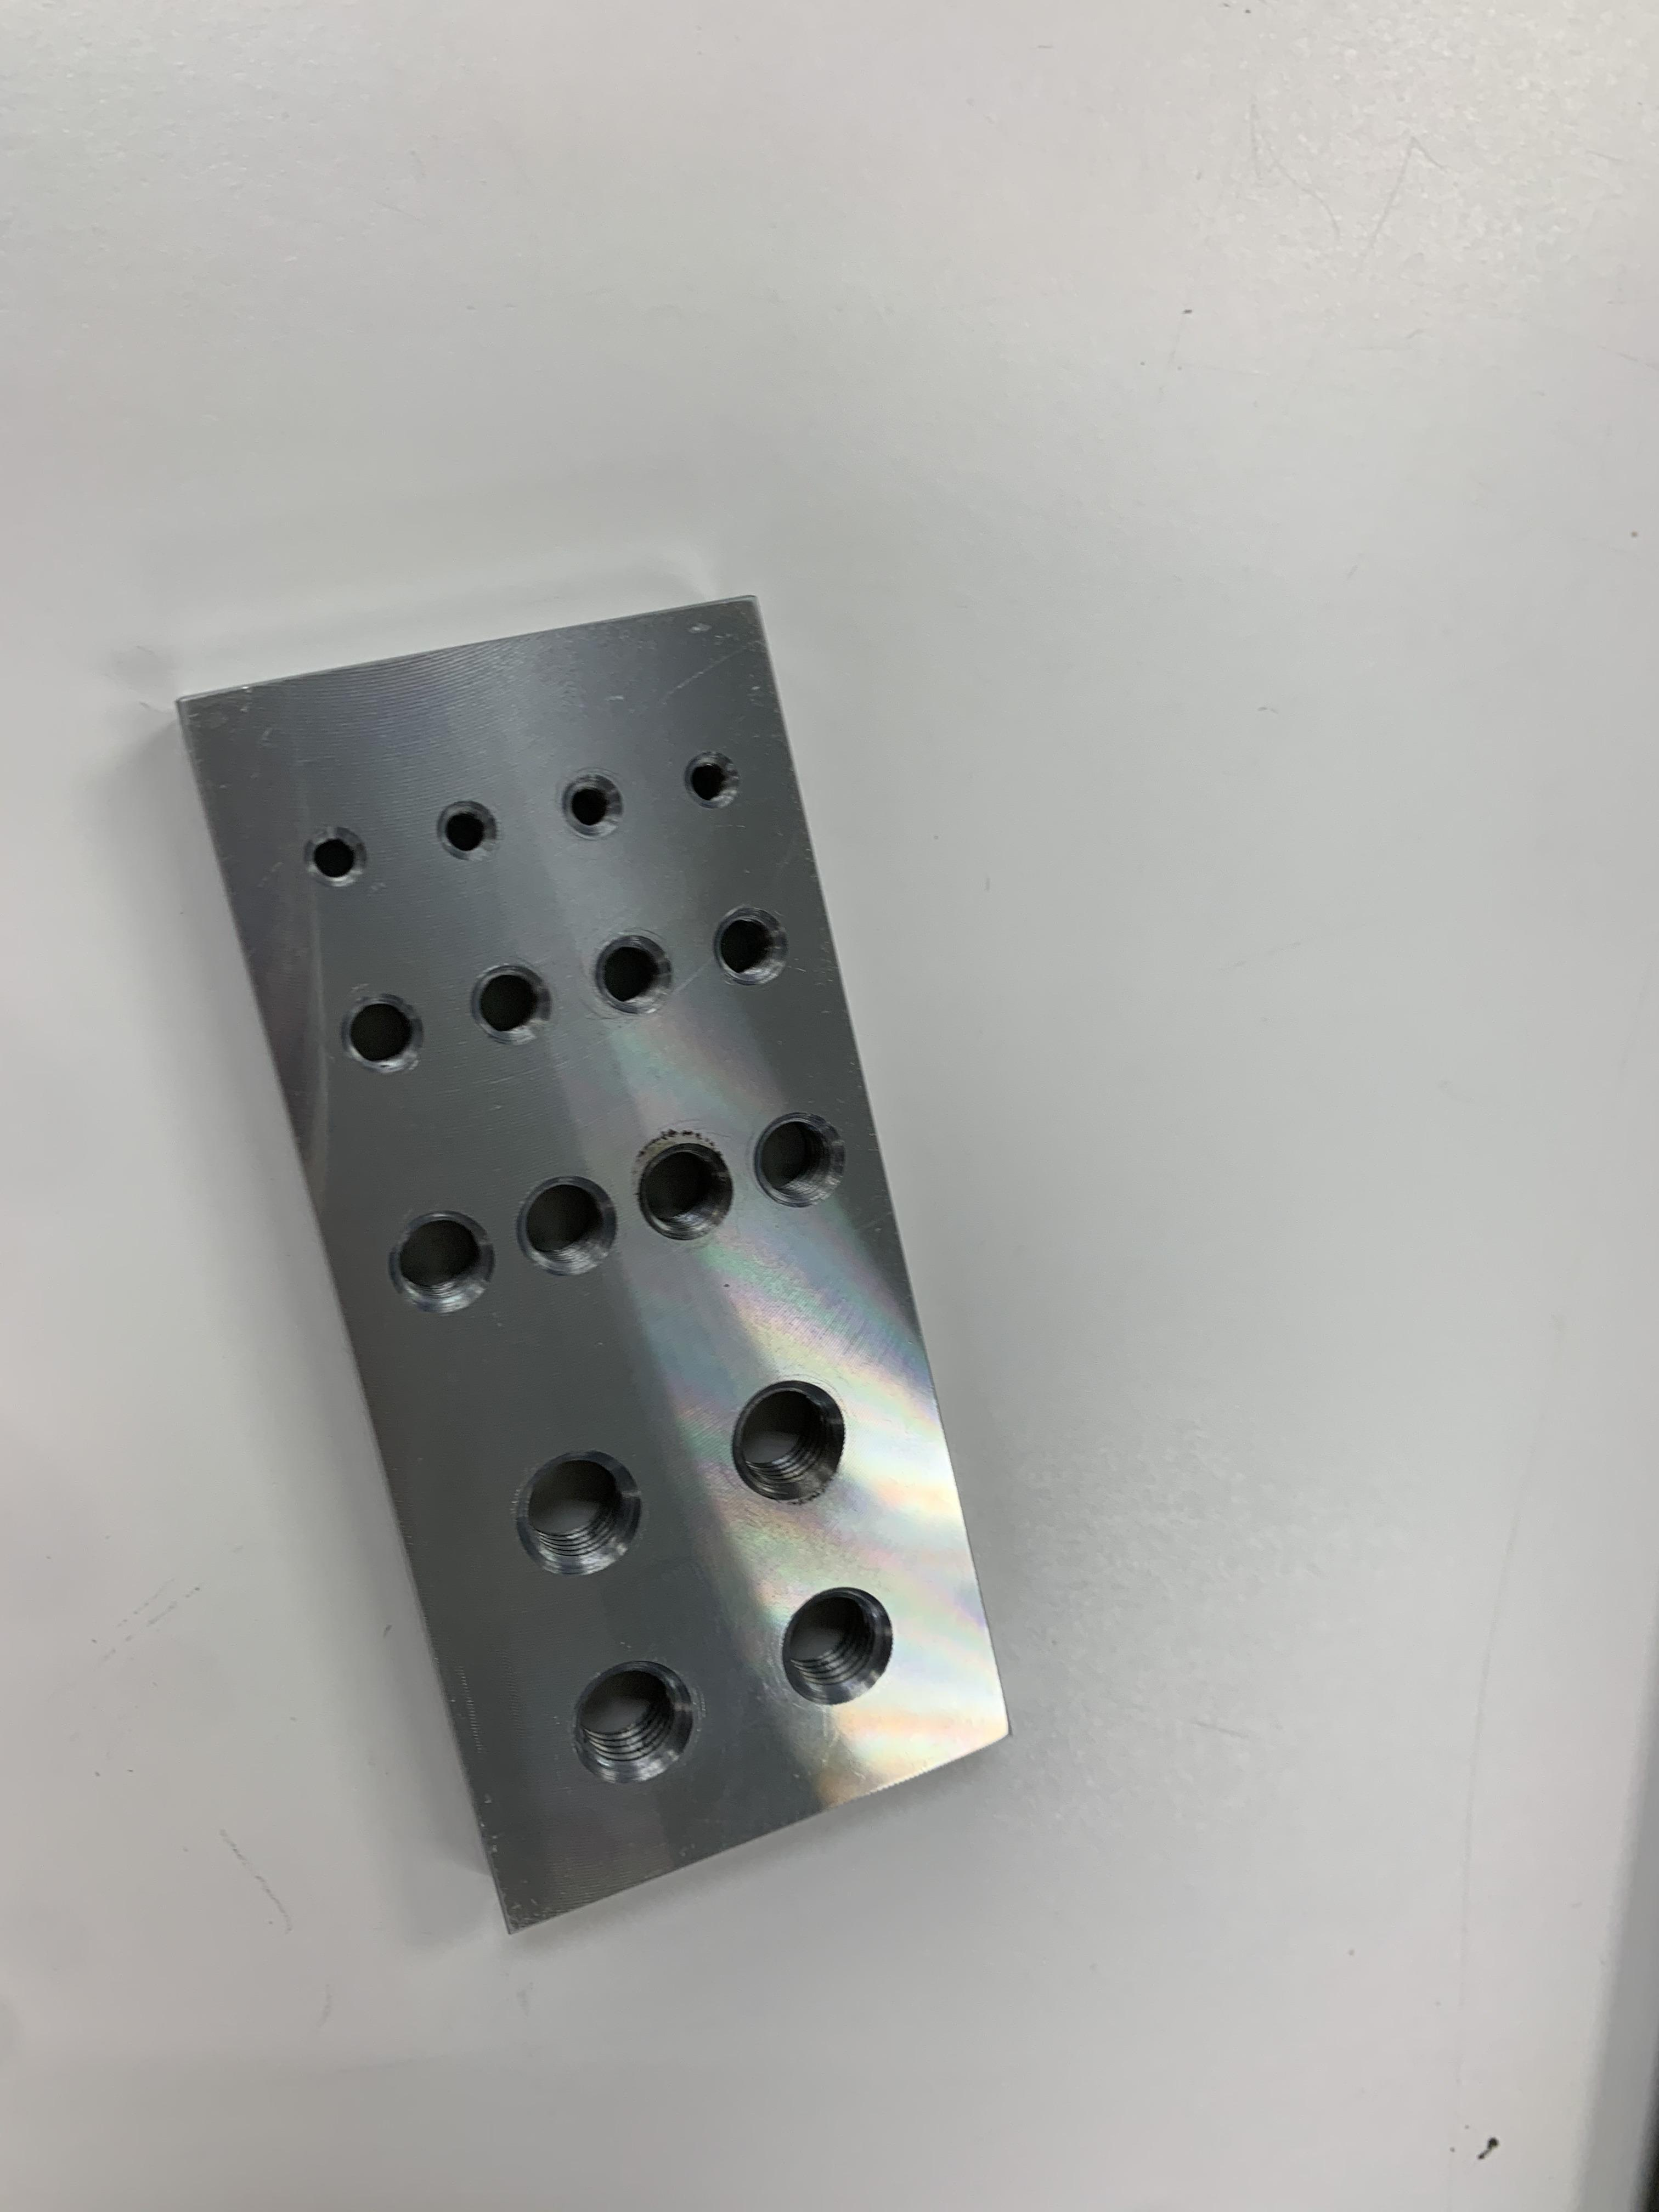hole: (709, 1357, 894, 1533), (533, 1627, 714, 1803), (497, 1425, 674, 1601), (753, 1573, 925, 1717), (383, 1188, 511, 1346), (617, 1130, 753, 1258), (739, 1092, 859, 1228), (509, 1155, 620, 1299), (326, 970, 430, 1104), (697, 888, 800, 1014), (457, 951, 558, 1064), (582, 918, 680, 1033), (295, 798, 382, 909), (673, 733, 762, 836), (551, 758, 636, 864), (418, 787, 512, 883)
